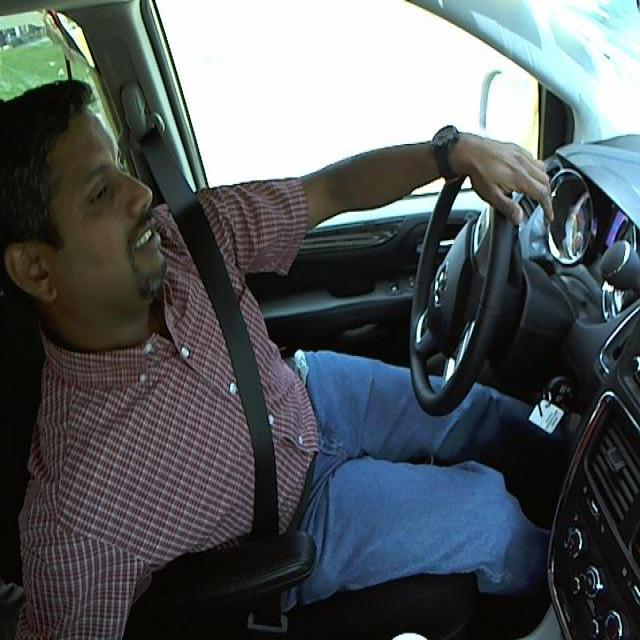seatbelt: (189, 241, 290, 524)
